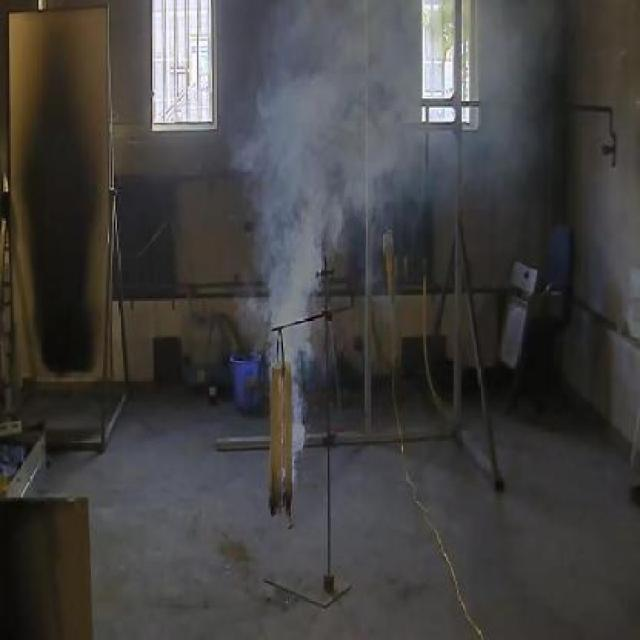fire: (234, 7, 540, 201), (232, 0, 390, 326)
